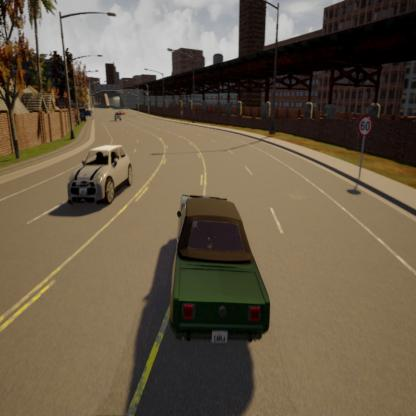Cars: (158, 171, 282, 348), (67, 140, 138, 214), (111, 109, 123, 123), (117, 108, 127, 116)
